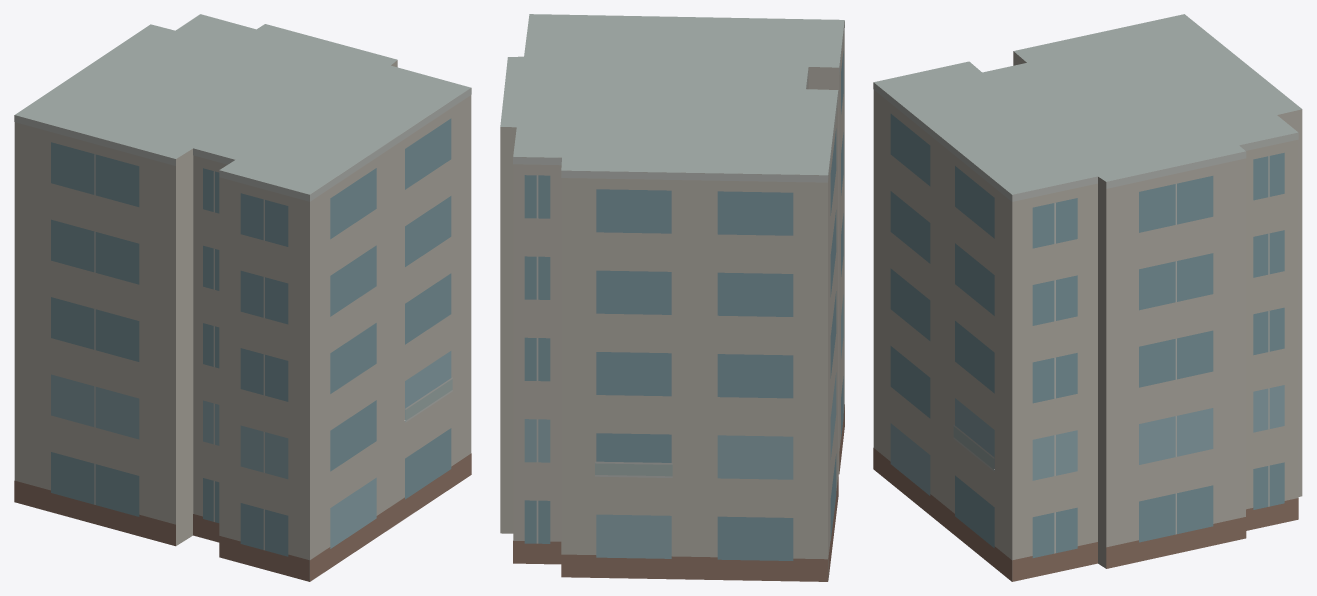
Rendered from survey-upis-32978103.glb.
3 views of the same model, side by side, from view 1: azimuth 30°, elevation 25°; view 2: azimuth 150°, elevation 25°; view 3: azimuth 270°, elevation 25° (orthographic). The views are drawn at different scales.
Parts seen in each view (by area): view 1: survey-upis-32978103.tmp; view 2: survey-upis-32978103.tmp; view 3: survey-upis-32978103.tmp.
Boxes of the visible parts, <box> form: survey-upis-32978103.tmp: <box>14,14,471,581</box>; survey-upis-32978103.tmp: <box>500,14,844,581</box>; survey-upis-32978103.tmp: <box>873,14,1302,581</box>.
Bounding box in the file's own units: 13.39 × 13.35 × 13.42.
